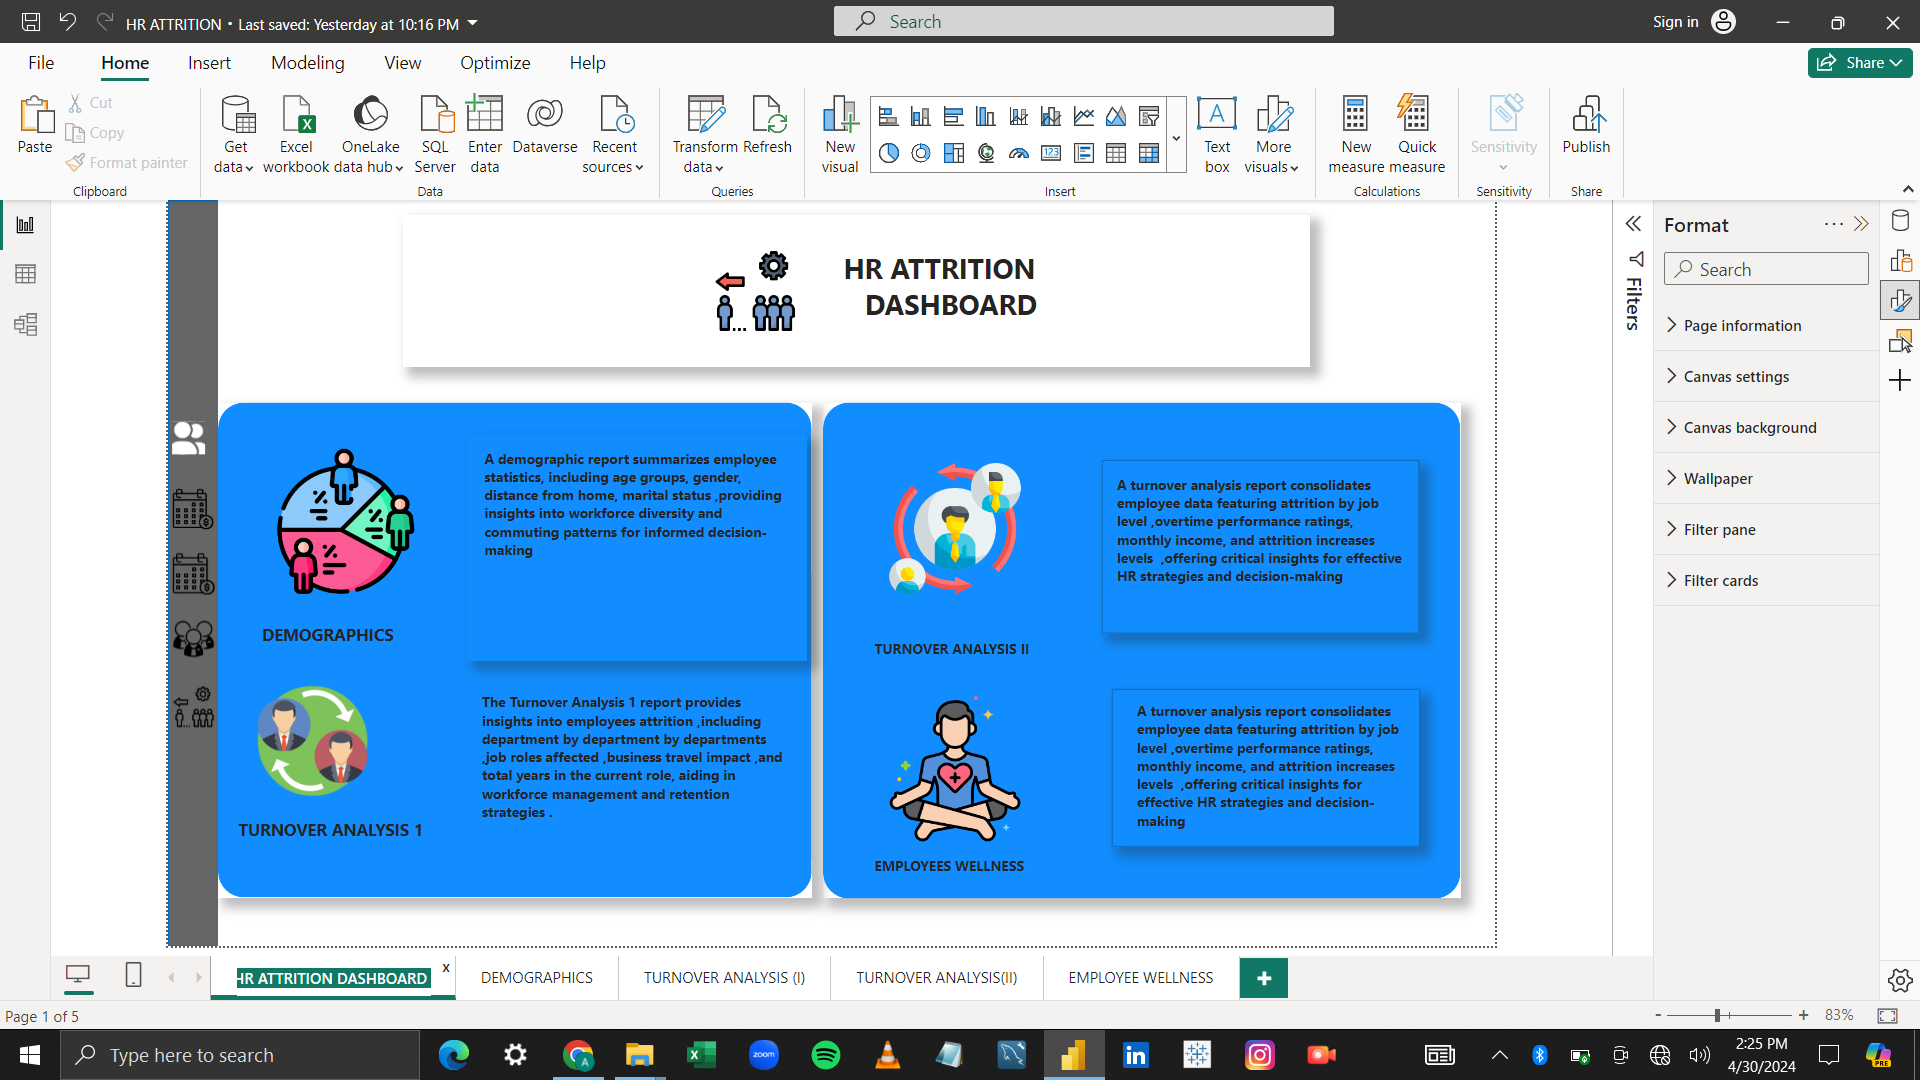

What the dashboard file says about the page in this screenshot:
{"tool":"powerbi","page":{"name":"HR ATTRITION DASHBOARD ","canvas":[1280,720],"ordinal":0},"visuals":[{"type":"shape","box":[226.2,15,875,146.2],"z":0},{"type":"image","box":[78.9,235.5,186.2,150],"z":0,"group":"g1"},{"type":"actionButton","box":[0,464.3,49.4,49.4],"z":0,"group":"g2"},{"type":"image","box":[516.2,42.5,100,91.2],"z":1000},{"type":"actionButton","box":[0,335.2,49.4,50.7],"z":1000,"group":"g2"},{"type":"textbox","box":[85.2,402.9,153.8,41.2],"z":1000,"group":"g1"},{"type":"textbox","box":[990,265,237.5,150],"z":2000},{"type":"actionButton","box":[0,270.1,48.2,55.5],"z":2000,"group":"g2"},{"type":"image","box":[62.7,464.2,153.8,115],"z":2000,"group":"g1"},{"type":"textbox","box":[556.2,42.5,383.8,108.8],"z":3000},{"type":"actionButton","box":[0,395.5,49.4,55.5],"z":3000,"group":"g2"},{"type":"textbox","box":[62.7,590.5,200,31.2],"z":3000,"group":"g1"},{"type":"shape","box":[48.2,195.4,572.9,477.6],"z":4000},{"type":"actionButton","box":[0,209.8,48.2,39.8],"z":4000,"group":"g2"},{"type":"textbox","box":[308.9,262.9,275,140],"z":4000,"group":"g1"},{"type":"shape","box":[632.5,195,615,478.8],"z":5000},{"type":"shape","box":[288.9,226.7,327.5,217.5],"z":5000,"group":"g1"},{"type":"group","id":"g1","title":"First chart1","box":[62.7,226.7,553.6,394.4],"z":6000},{"type":"textbox","box":[300.2,235.5,307.5,188.8],"z":6000,"group":"g1"},{"type":"image","box":[676.2,242.5,165,150],"z":7000},{"type":"textbox","box":[297.4,470.1,307.5,143.8],"z":7000,"group":"g1"},{"type":"textbox","box":[676.2,418.8,165,31.2],"z":8000},{"type":"image","box":[676.2,473.8,165,150],"z":9000},{"type":"textbox","box":[676.2,628.8,165,31.2],"z":10000},{"type":"shape","box":[901.2,251.2,306.2,167.5],"z":11000},{"type":"shape","box":[910,471.2,297.5,152.5],"z":12000},{"type":"textbox","box":[910,260,286.2,150],"z":13000},{"type":"textbox","box":[930,478.8,266.2,135],"z":14000},{"type":"shape","box":[0,0,48.2,720],"z":15000},{"type":"group","id":"g2","title":"Menu","box":[0,209.8,49.4,303.9],"z":15001}]}

Visuals, with their boxes on the page's 1280x720 design canvas (x1, y1, x2, y2). These are canvas units, not pixel positions in the 1920x1080 screenshot, which may show the page scaled, cropped or inside an application window:
shape: Rect(226, 15, 1101, 161)
image: Rect(79, 236, 265, 386)
actionButton: Rect(0, 464, 49, 514)
image: Rect(516, 42, 616, 134)
actionButton: Rect(0, 335, 49, 386)
textbox: Rect(85, 403, 239, 444)
textbox: Rect(990, 265, 1228, 415)
actionButton: Rect(0, 270, 48, 326)
image: Rect(63, 464, 216, 579)
textbox: Rect(556, 42, 940, 151)
actionButton: Rect(0, 396, 49, 451)
textbox: Rect(63, 590, 263, 622)
shape: Rect(48, 195, 621, 673)
actionButton: Rect(0, 210, 48, 250)
textbox: Rect(309, 263, 584, 403)
shape: Rect(632, 195, 1248, 674)
shape: Rect(289, 227, 616, 444)
"First chart1" group: Rect(63, 227, 616, 621)
textbox: Rect(300, 236, 608, 424)
image: Rect(676, 242, 841, 392)
textbox: Rect(297, 470, 605, 614)
textbox: Rect(676, 419, 841, 450)
image: Rect(676, 474, 841, 624)
textbox: Rect(676, 629, 841, 660)
shape: Rect(901, 251, 1207, 419)
shape: Rect(910, 471, 1208, 624)
textbox: Rect(910, 260, 1196, 410)
textbox: Rect(930, 479, 1196, 614)
shape: Rect(0, 0, 48, 720)
"Menu" group: Rect(0, 210, 49, 514)
